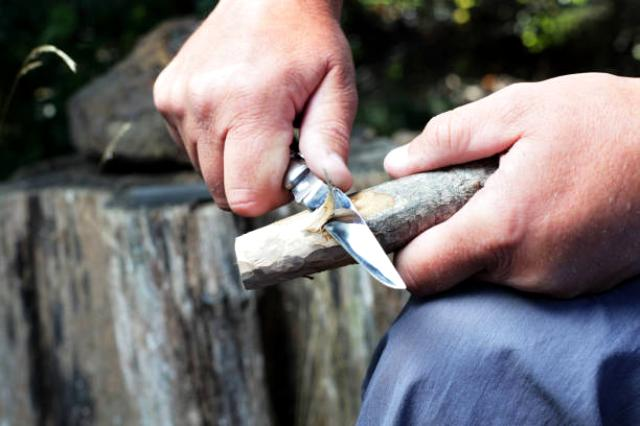pocket-knife: (281, 86, 411, 306)
